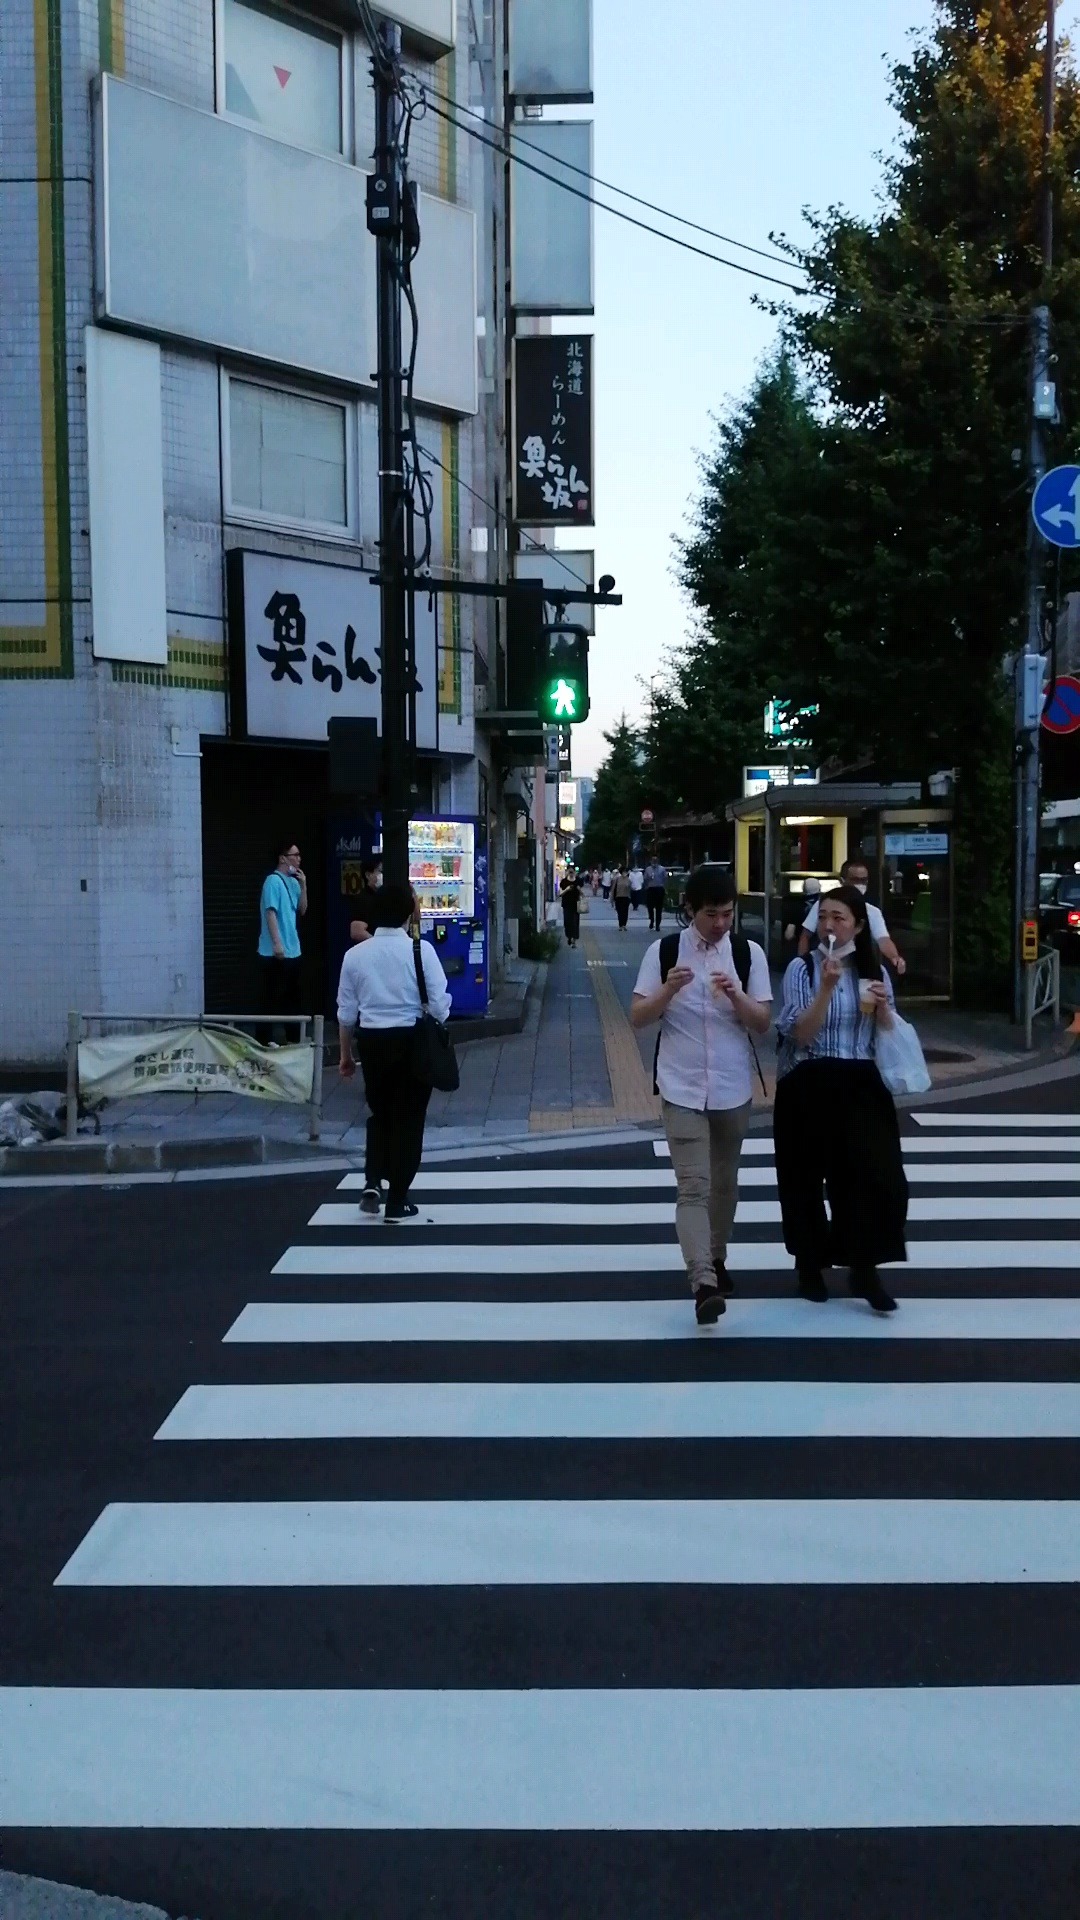green: (534, 626, 588, 724)
